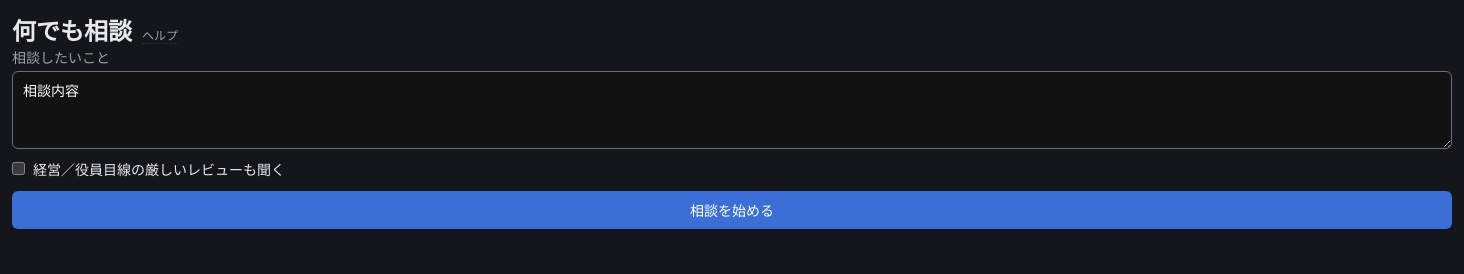
NewConsultForm › 失敗時はエラーメッセージを表示する
The image size is (1464, 274).
Click the button "相談を始める" at [732, 210], box [12,191,1452,229]
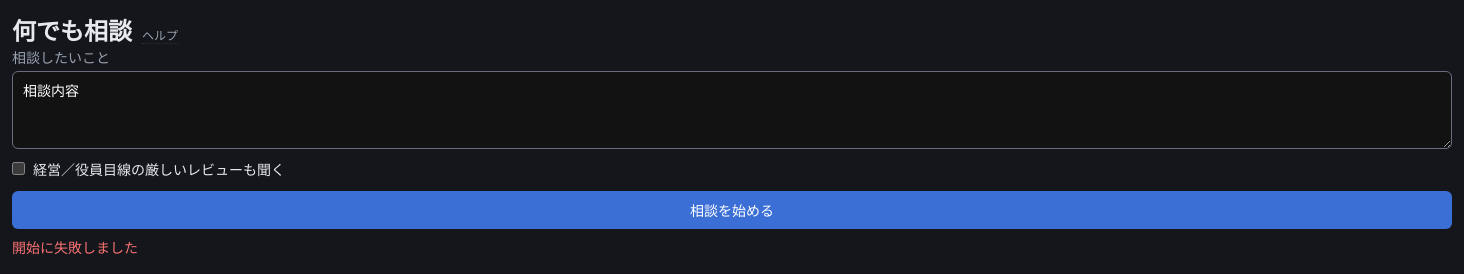
Expected: the message reads "開始に失敗しました", [12,237,138,257]
